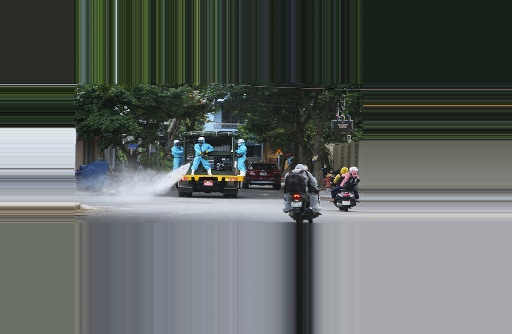plate: (289, 199, 304, 208), (340, 198, 353, 206), (203, 177, 212, 187)
